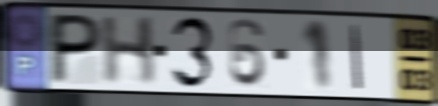1: (299, 18, 335, 94)
3: (166, 14, 218, 90)
6: (227, 17, 267, 91)
H: (99, 15, 159, 87)
I: (348, 23, 364, 92)
P: (47, 11, 105, 86)
